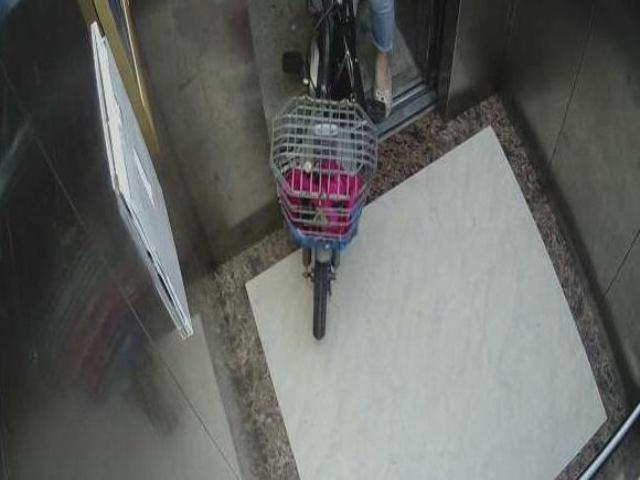emotor: (260, 3, 378, 338)
